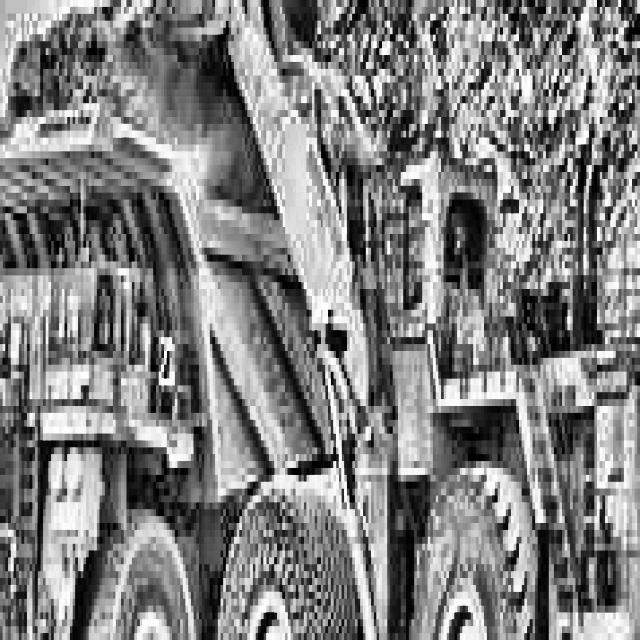buldozerpayloadergrader: (110, 0, 640, 640)
dump_truck: (0, 48, 247, 640)
